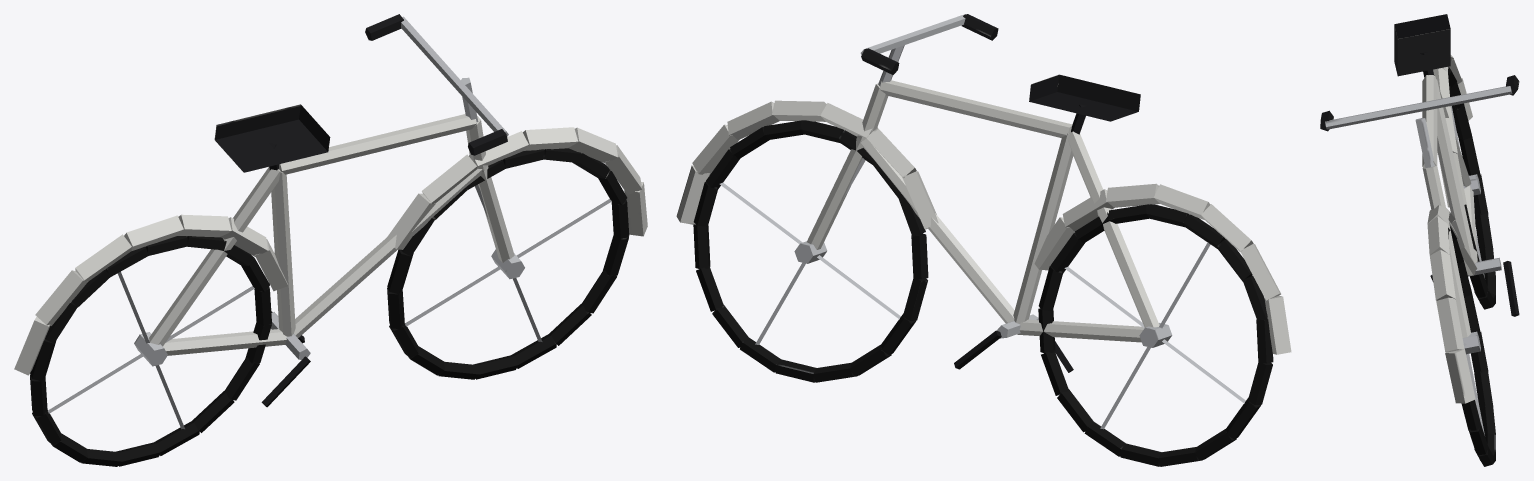
The model's file is kolo_766fab94.glb.
The picture shows the model from 3 angles, left to right: view 1: azimuth 30°, elevation 25°; view 2: azimuth 150°, elevation 25°; view 3: azimuth 270°, elevation 25°; orthographic projection. The views are drawn at different scales.
Visible parts, largest first — view 1: dum; view 2: dum; view 3: dum.
Boxes of the visible parts, x1=… form: dum: x1=14, y1=14, x2=647, y2=466; dum: x1=676, y1=14, x2=1291, y2=466; dum: x1=1320, y1=14, x2=1519, y2=466.
Size of the model in its own units: 1.95 by 1.09 by 0.5868.
Materials: 1 (1 with a texture image).
